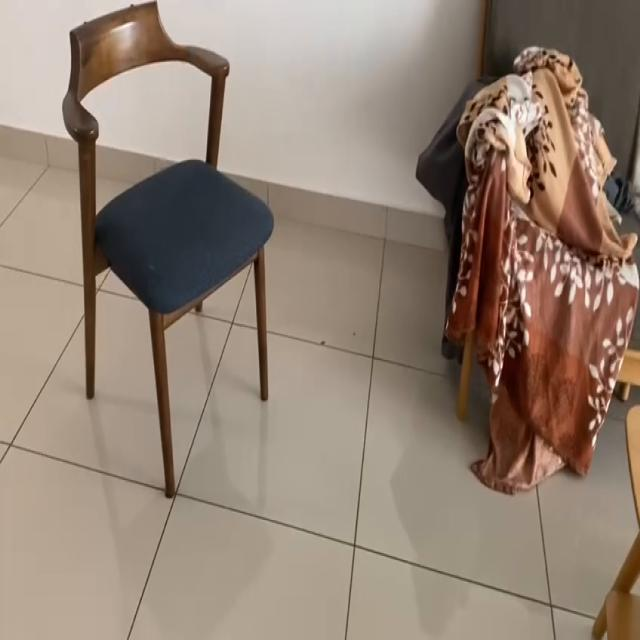Chair: (29, 0, 295, 433)
